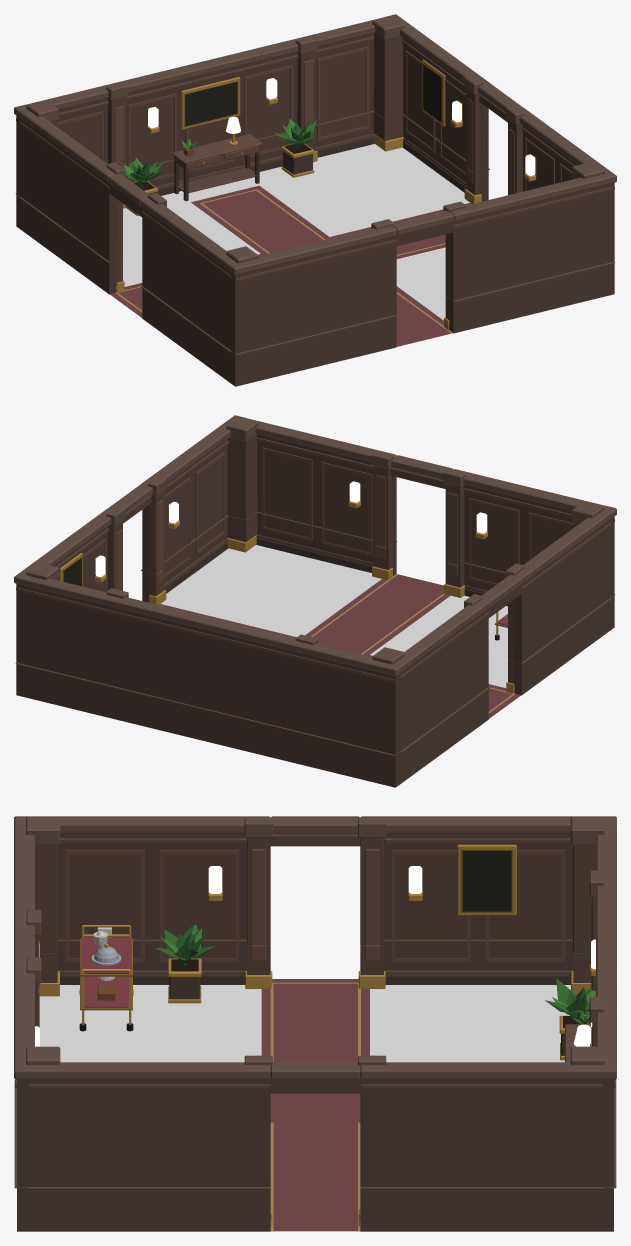
The model's file is corridorE.glb.
3 renders of one model, top to bottom at view 1: azimuth 30°, elevation 25°; view 2: azimuth 150°, elevation 25°; view 3: azimuth 270°, elevation 25°, orthographic. The views are drawn at different scales.
Visible parts, largest first — view 1: static, W_north_0_up, floor, W_south_0_up, W_south_1_up, W_west_0_up, W_west_1_up, W_east_0_up, W_east_1_up; view 2: W_north_0_up, static, floor, W_south_1_up, W_south_0_up, W_west_0_up, W_west_1_up, W_east_1_up, W_east_0_up; view 3: floor, static, W_east_0_up, W_east_1_up, W_west_0_up, W_west_1_up, W_north_0_up, W_south_0_up, W_south_1_up.
Part boxes in pixels (bbox=[...]): static: bbox=[15, 92, 615, 386]; W_north_0_up: bbox=[14, 15, 404, 196]; floor: bbox=[110, 144, 471, 346]; W_south_0_up: bbox=[226, 210, 453, 353]; W_south_1_up: bbox=[443, 162, 616, 300]; W_west_0_up: bbox=[14, 104, 148, 262]; W_west_1_up: bbox=[141, 193, 246, 350]; W_east_0_up: bbox=[385, 14, 522, 173]; W_east_1_up: bbox=[505, 105, 616, 195]; W_north_0_up: bbox=[14, 563, 404, 754]; static: bbox=[15, 493, 615, 787]; floor: bbox=[159, 545, 520, 718]; W_south_1_up: bbox=[226, 416, 396, 547]; W_south_0_up: bbox=[391, 455, 616, 597]; W_west_0_up: bbox=[384, 574, 522, 751]; W_west_1_up: bbox=[505, 505, 616, 662]; W_east_1_up: bbox=[141, 415, 245, 574]; W_east_0_up: bbox=[14, 484, 152, 591]; floor: bbox=[39, 979, 588, 1231]; static: bbox=[14, 924, 616, 1231]; W_east_0_up: bbox=[270, 1055, 616, 1186]; W_east_1_up: bbox=[14, 1055, 272, 1186]; W_west_0_up: bbox=[270, 816, 616, 945]; W_west_1_up: bbox=[14, 816, 272, 945]; W_north_0_up: bbox=[570, 816, 616, 1186]; W_south_0_up: bbox=[14, 816, 60, 987]; W_south_1_up: bbox=[14, 957, 60, 1186].
Size of the model in its own units: 8.08 by 2.48 by 8.08.
